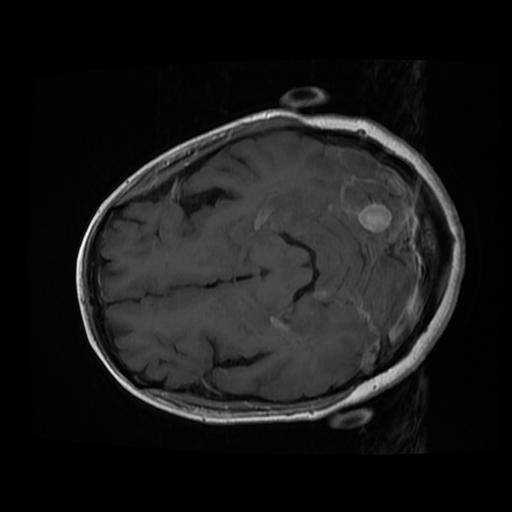meningioma: (358, 203, 393, 233)
